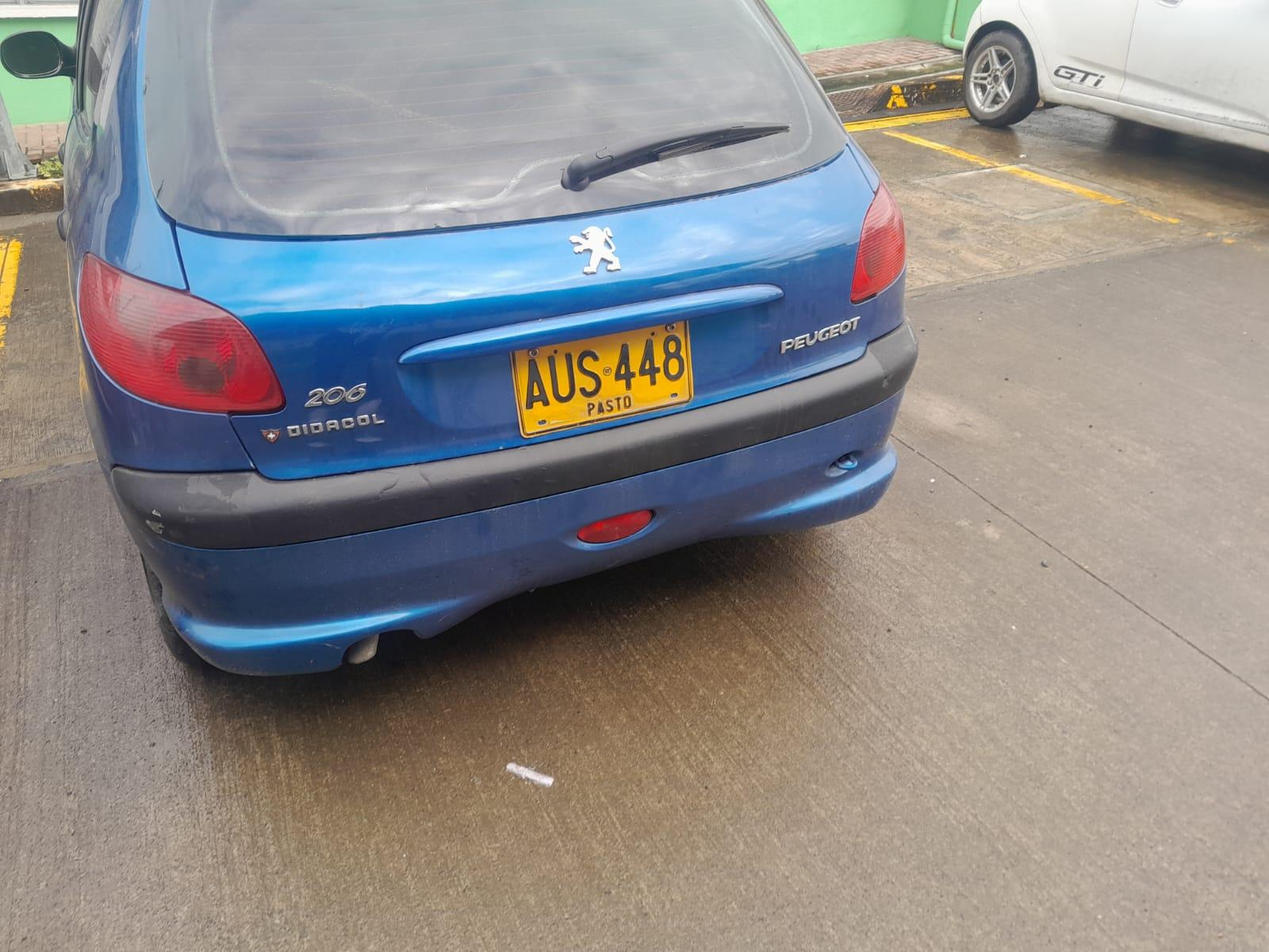placa: (512, 319, 692, 436)
